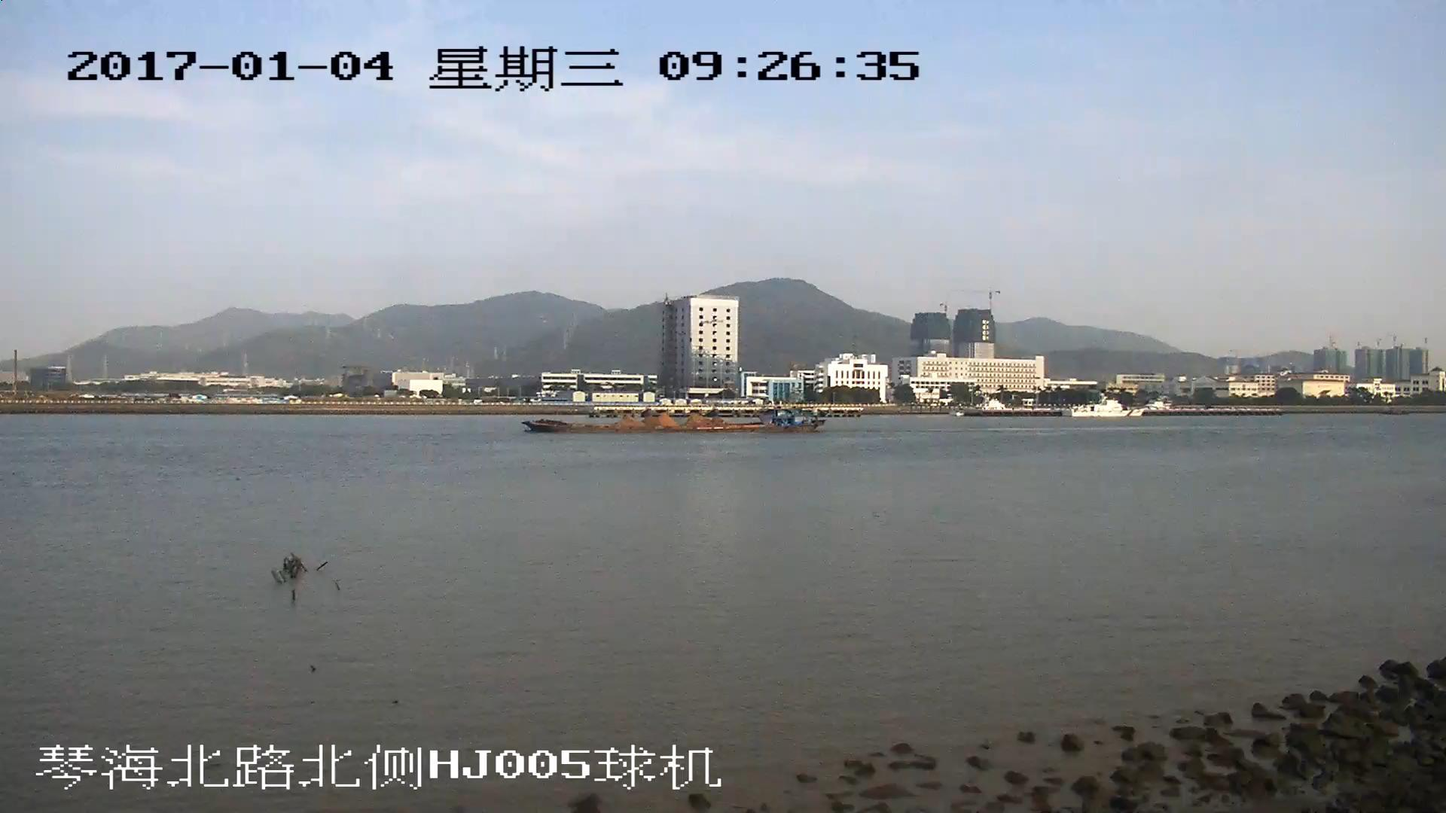ore carrier: (515, 406, 826, 434)
